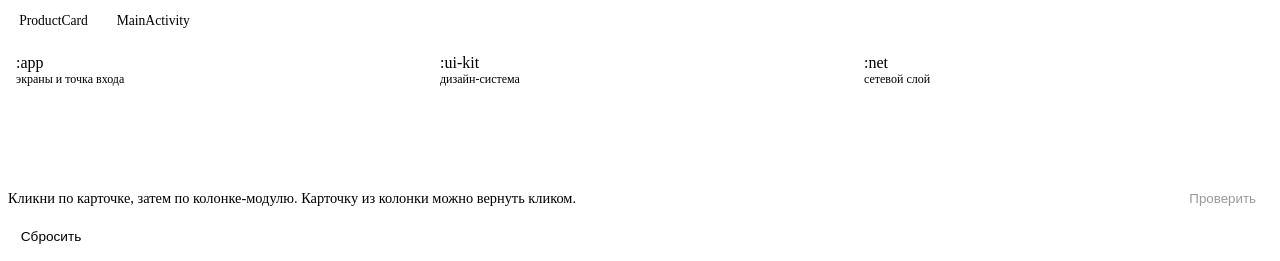
Test case: clicking a placed card returns it to the pool
This screenshot has width=1280, height=261.
Click the button "ProductCard": [54, 21] box [8,8,99,34]
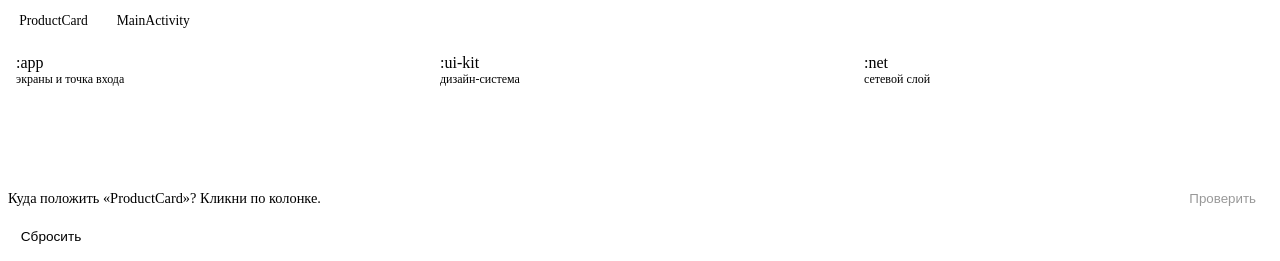
Click the button ":net сетевой слой": [897, 70] box [864,54,930,86]
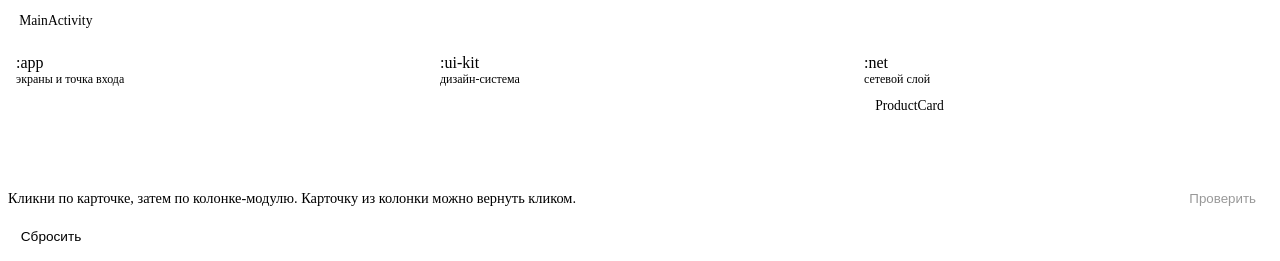
Click the button "MainActivity": [56, 21] box [8,8,104,34]
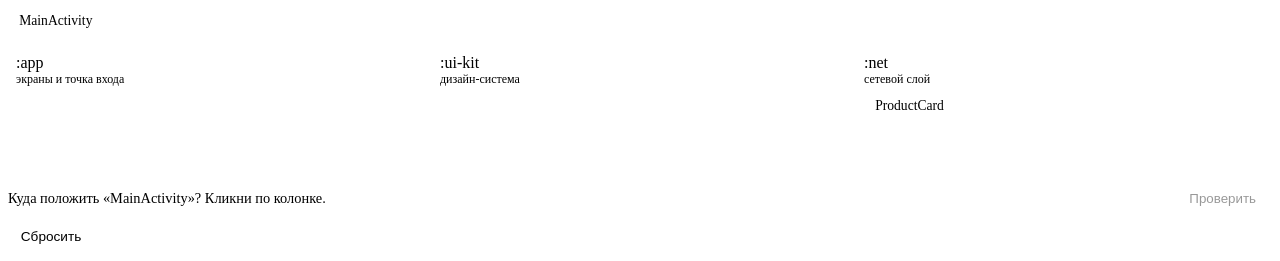
Click the button ":app экраны и точка входа": [70, 70] box [16,54,124,86]
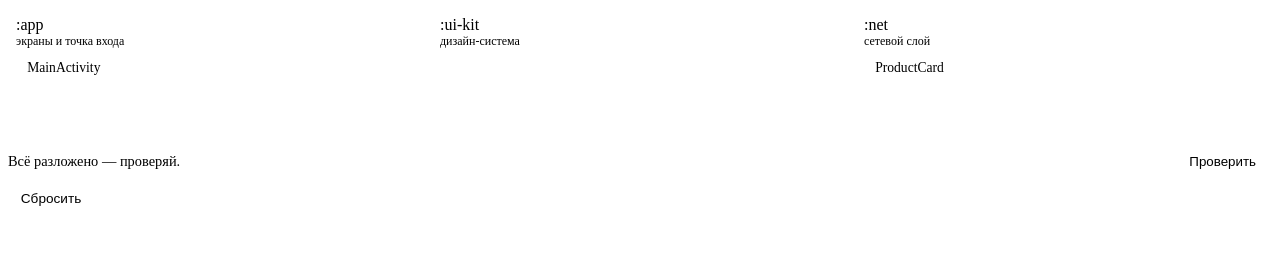
Click the button "ProductCard": [910, 68] box [864,55,955,81]
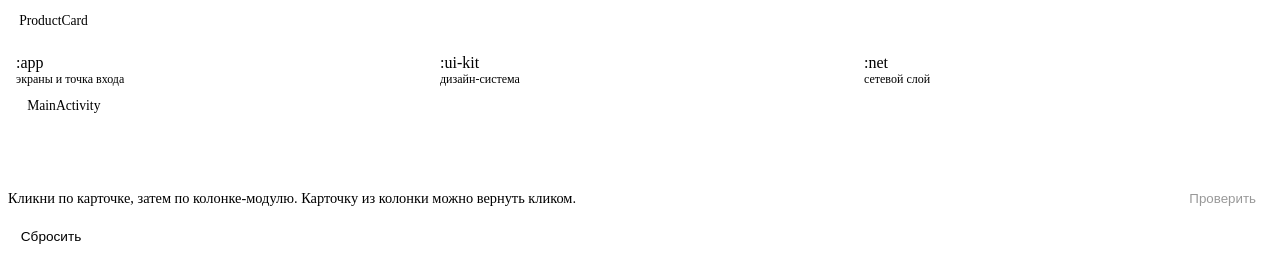
Expected: the button "Проверить" is disabled, [1173,186,1272,212]
